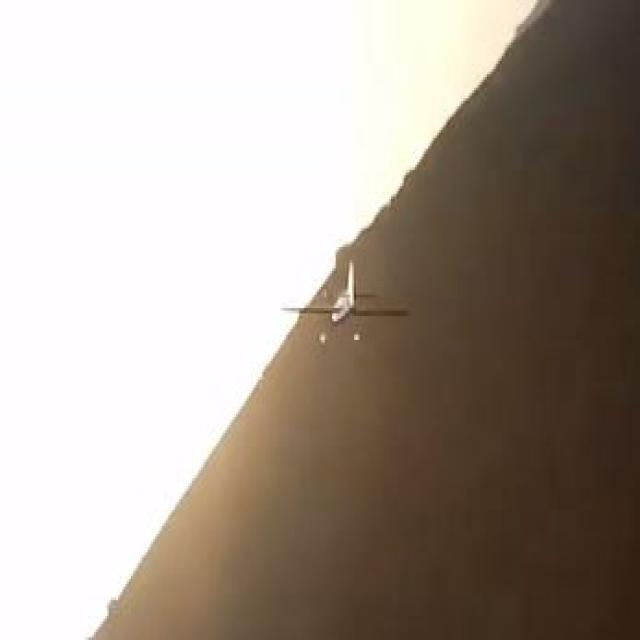iha: (279, 290, 411, 311)
